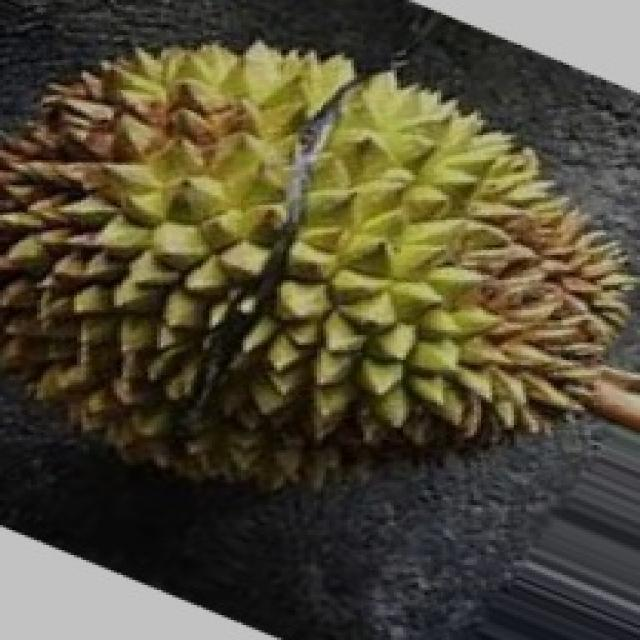fruit: (295, 5, 637, 510), (0, 177, 342, 585)
